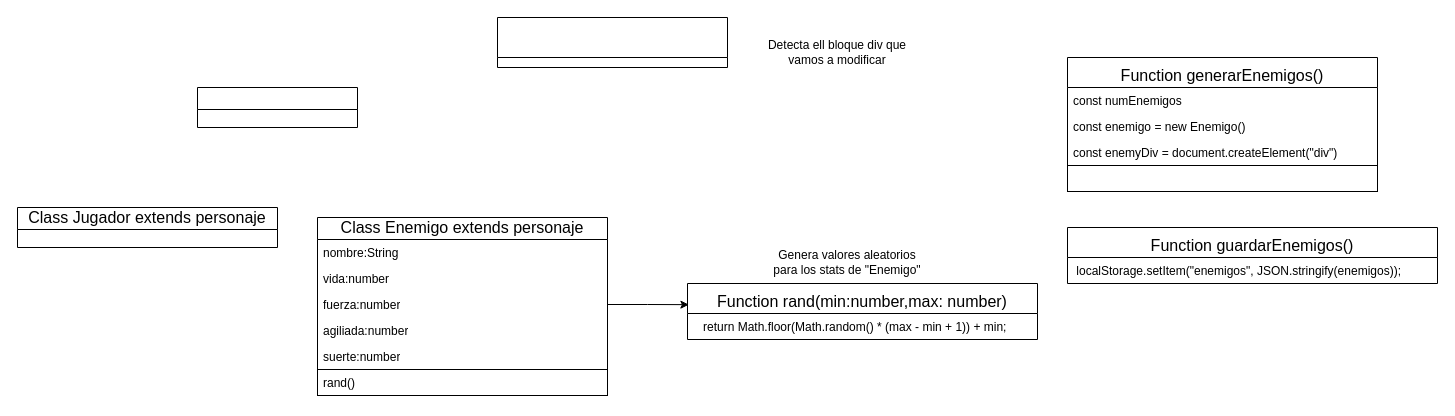
Image size: 1455x416. Some labels were removed from this diagram. Each missing label, with the centre of its shape:
Class personaje: pixel 277 107
Function mostrarEnPagina (id:string, texto:string): pixel 612 42
mostrarStats(): pixel 1222 178
